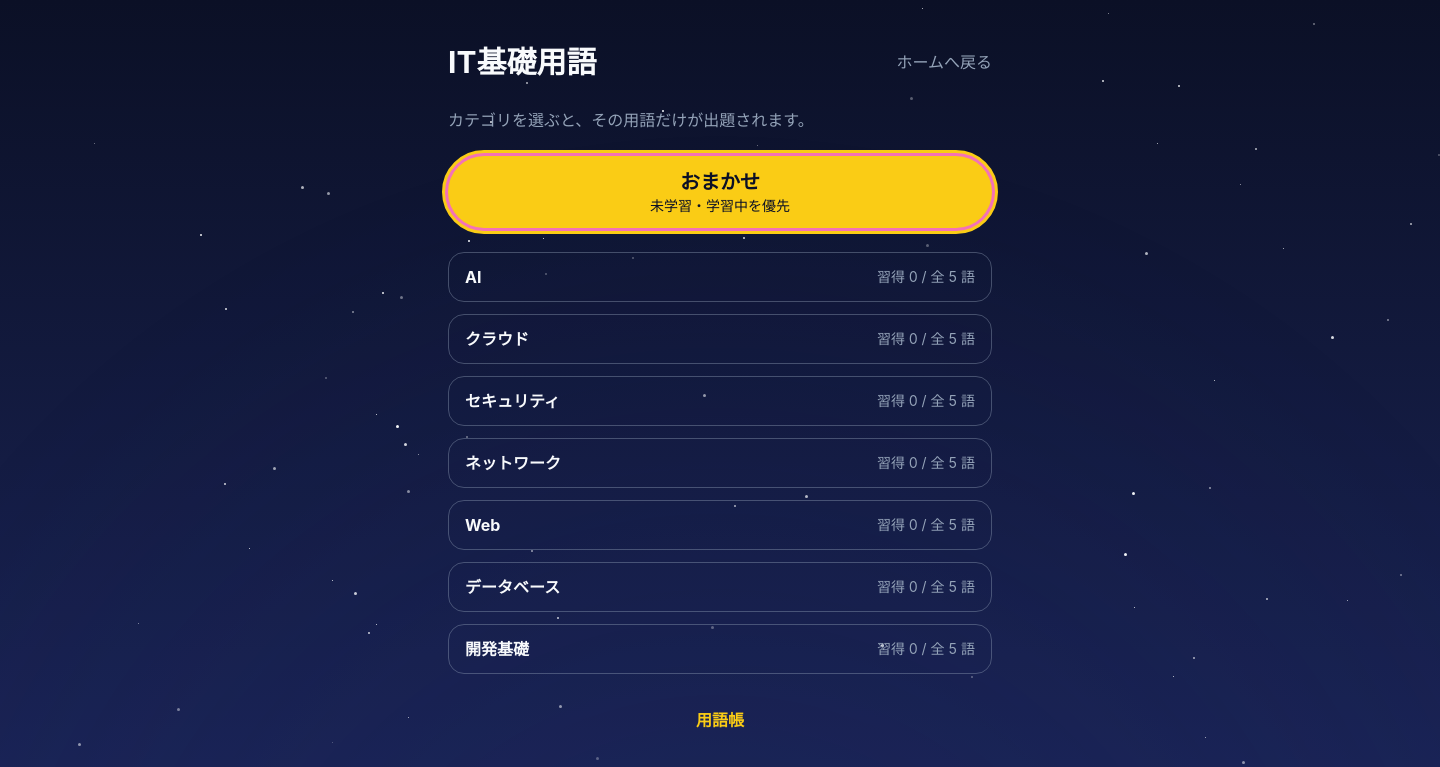
Test: CategorySelect › opens the glossary
The image size is (1440, 767).
Click the link "用語帳" at x=720, y=720, box [696,710,744,730]
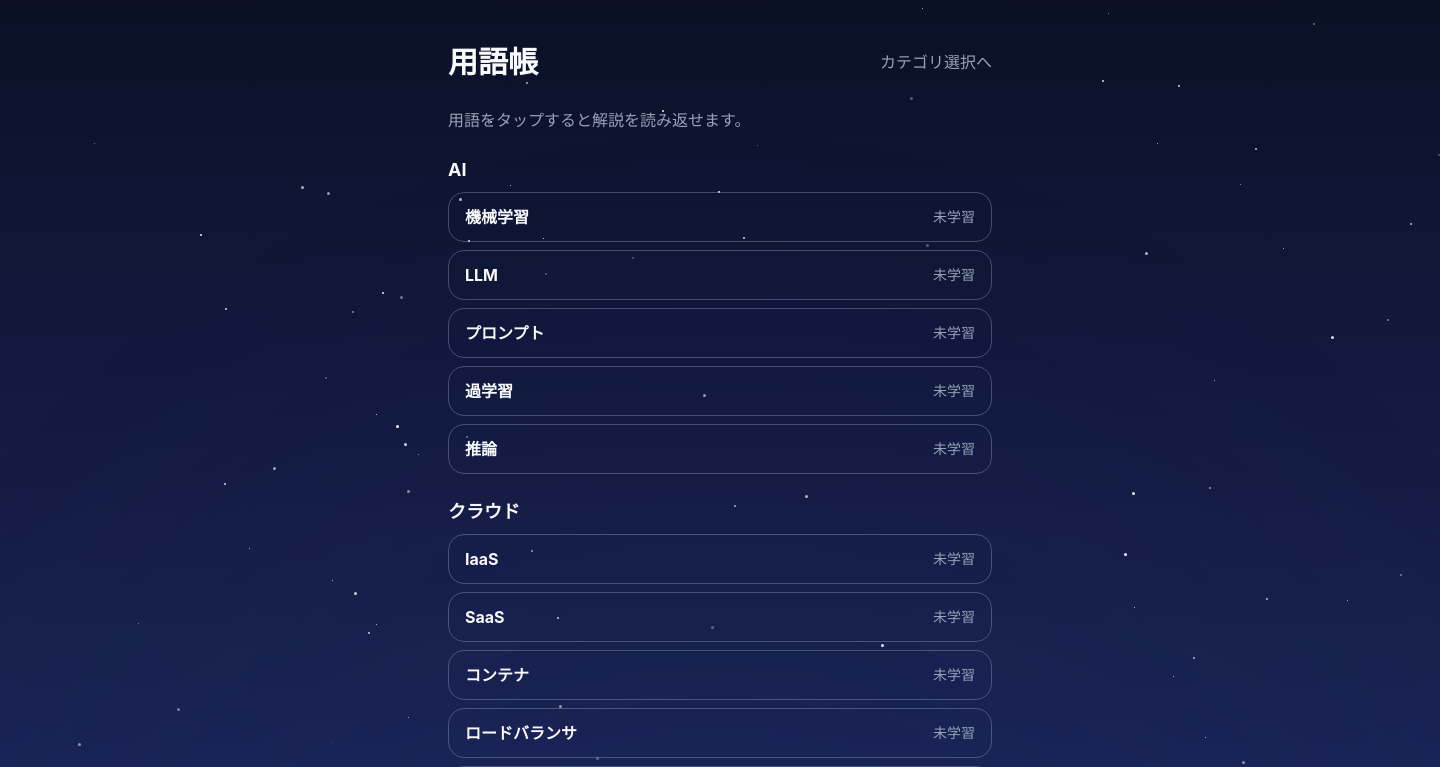
Expected: the heading "用語帳" is shown, [448,44,538,80]
